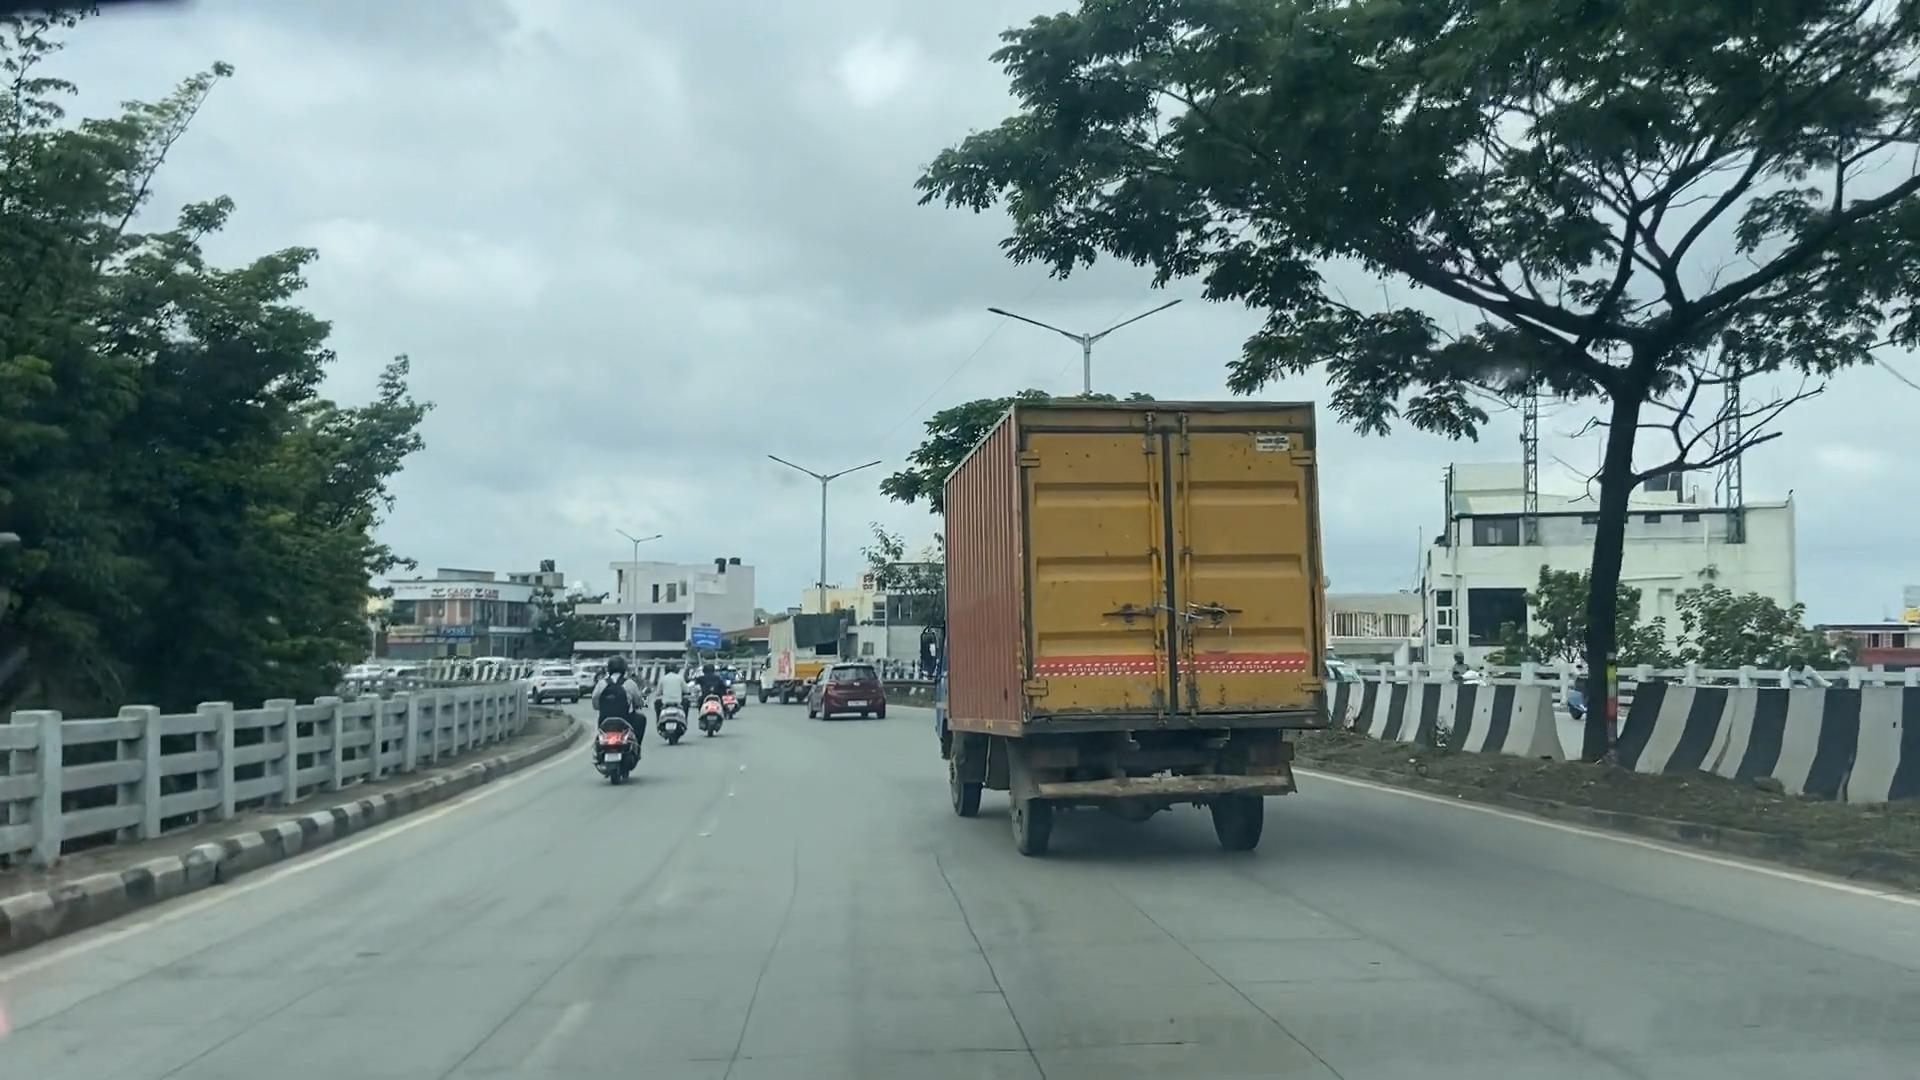HMV: (988, 375, 1335, 876)
LMV: (589, 654, 655, 789), (798, 659, 881, 728), (698, 654, 733, 754)
